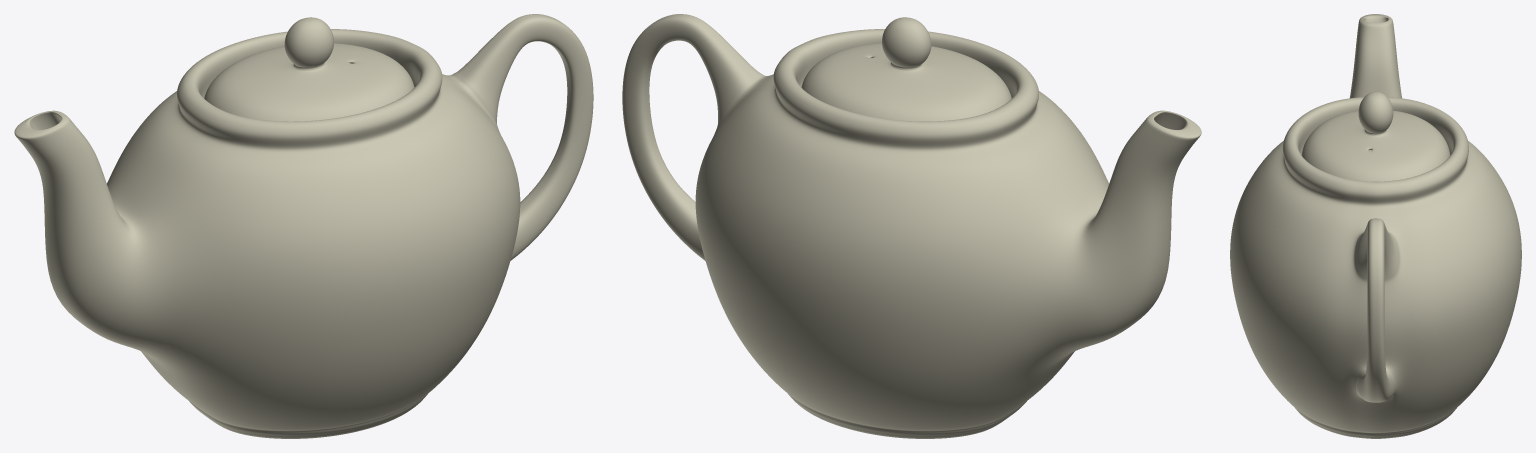
Rendered from teapot1.glb.
3 renders of one model, left to right at view 1: azimuth 30°, elevation 25°; view 2: azimuth 150°, elevation 25°; view 3: azimuth 270°, elevation 25°, orthographic. The views are drawn at different scales.
Parts seen in each view (by area): view 1: pot, lid; view 2: pot, lid; view 3: pot, lid.
Boxes of the visible parts, bbox=[...] form: pot: bbox=[14, 14, 593, 438]; lid: bbox=[204, 17, 414, 121]; pot: bbox=[622, 14, 1201, 438]; lid: bbox=[801, 17, 1011, 121]; pot: bbox=[1230, 14, 1521, 438]; lid: bbox=[1301, 91, 1450, 181].
Bounding box in the file's own units: 4.71 × 2.93 × 2.56.
